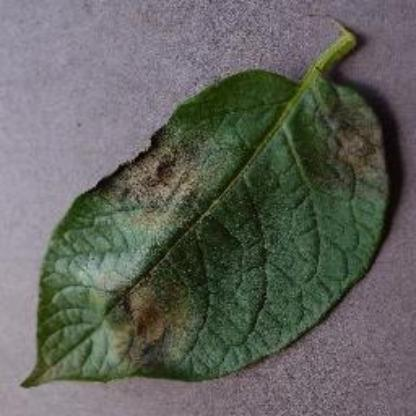Late-Blight: (12, 24, 398, 402)
